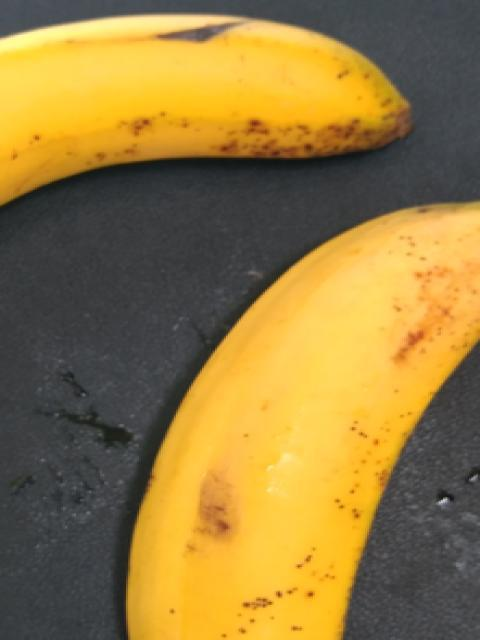ripe: (96, 192, 479, 639), (0, 15, 392, 279)
